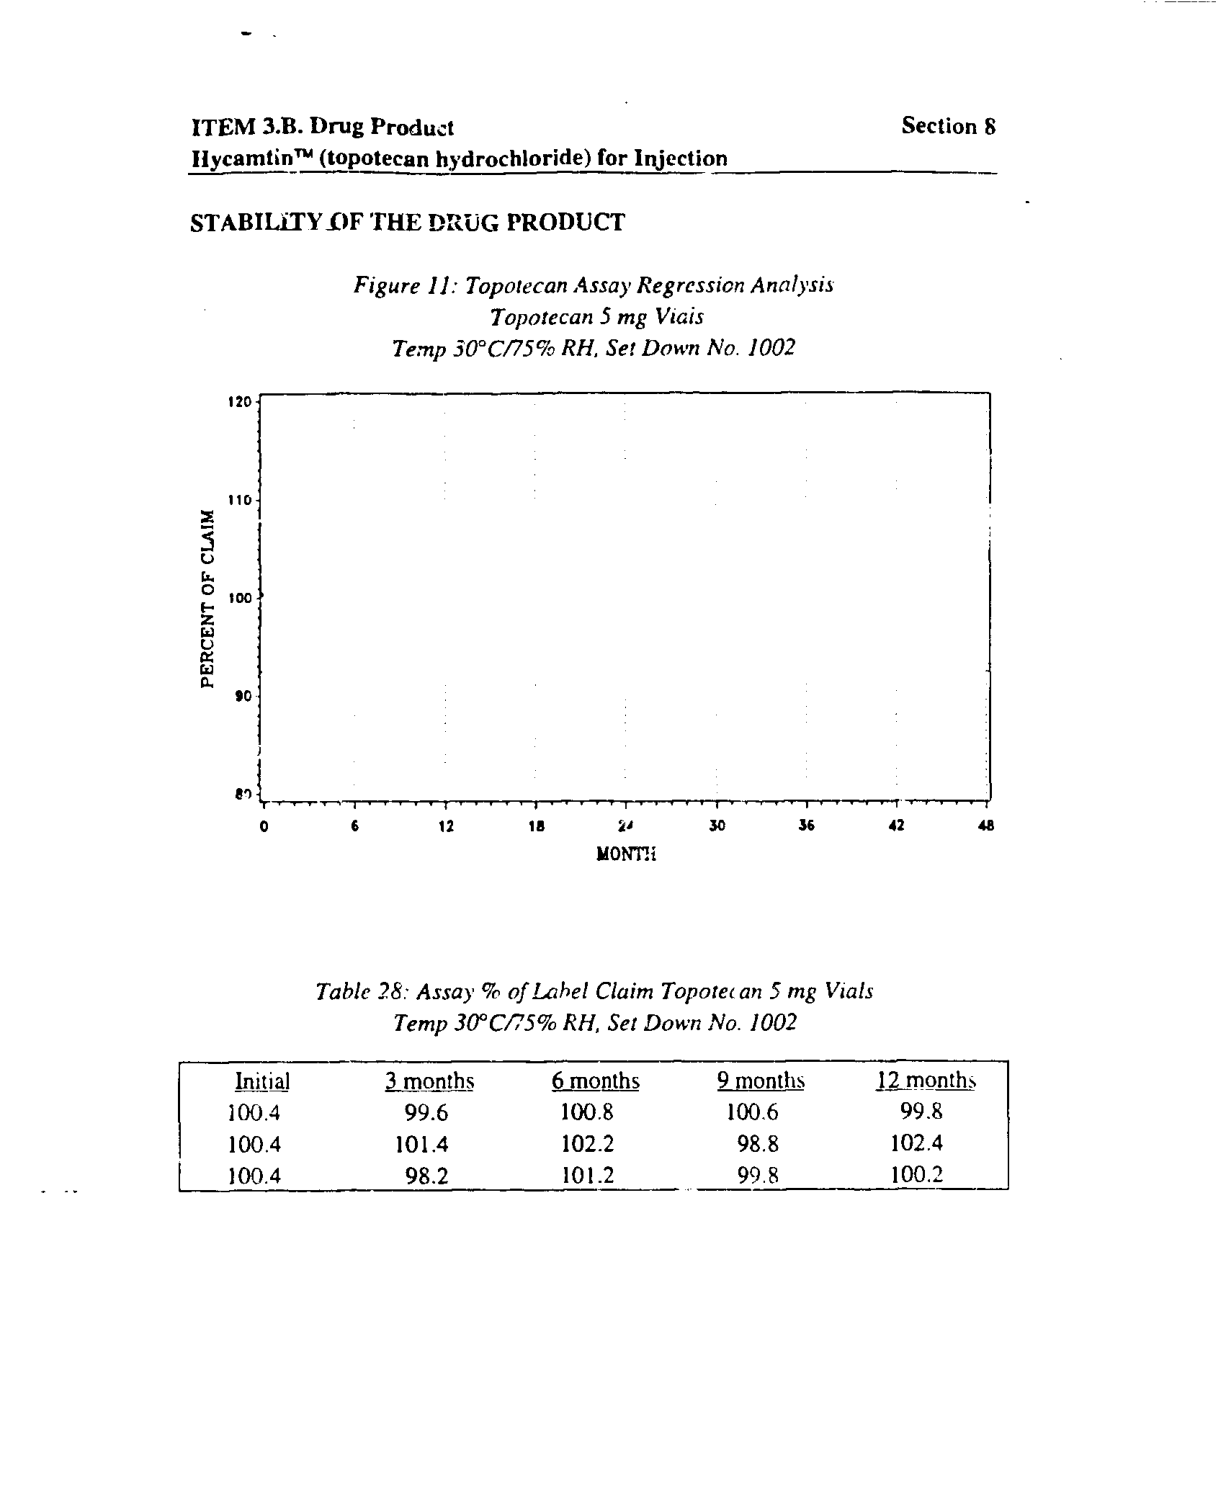partial_lined: (176, 1059, 1011, 1196)
